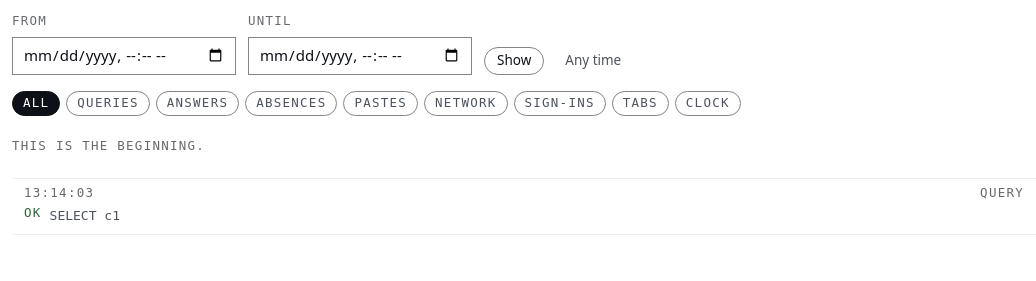
Test: the timeline tab › a range that ends before it begins is refused
The image size is (1036, 281).
Step 1. Type "2026-09-20T12:00" into the field labelled "From" → {"x": 124, "y": 56}, box [12, 37, 236, 75]
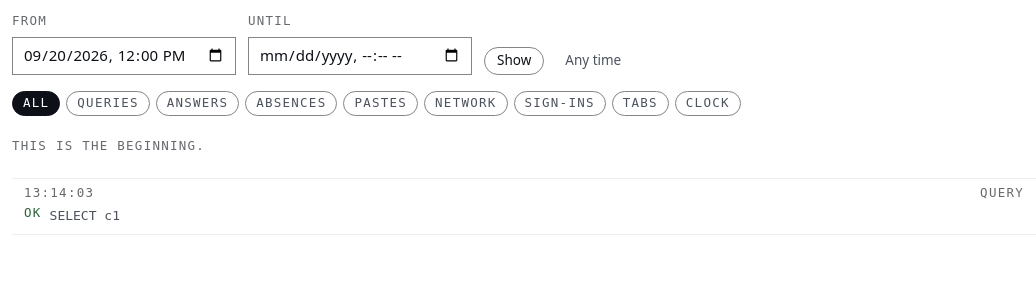
Step 2. Type "2026-09-20T11:00" into the field labelled "Until" → {"x": 360, "y": 56}, box [248, 37, 472, 75]
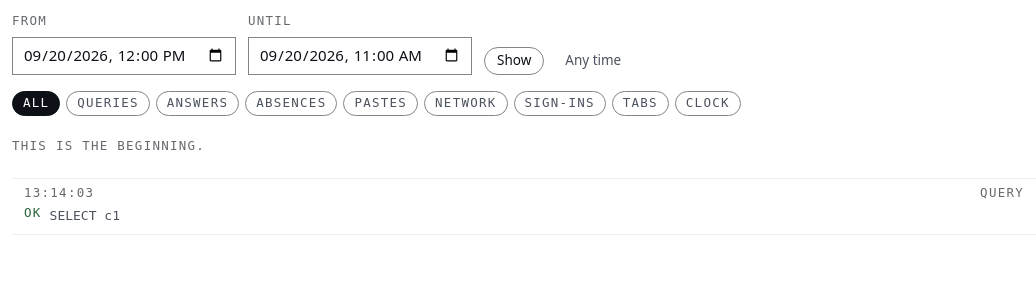
Step 3. Click the button "Show" → {"x": 514, "y": 61}, box [484, 47, 544, 75]
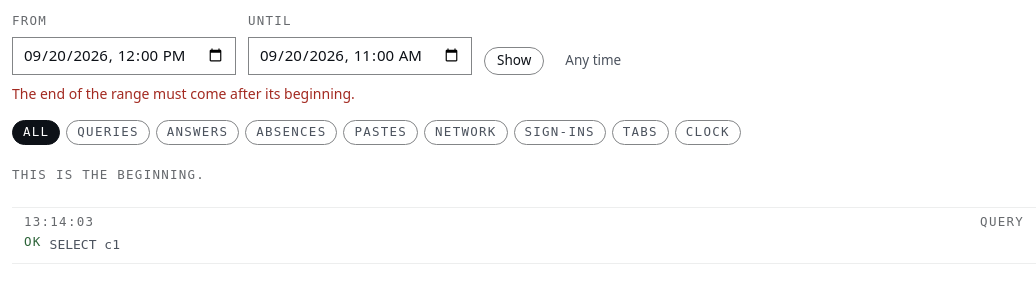
Expected: the text "The end of the range must come after its beginning." is shown, [12, 84, 355, 103]
